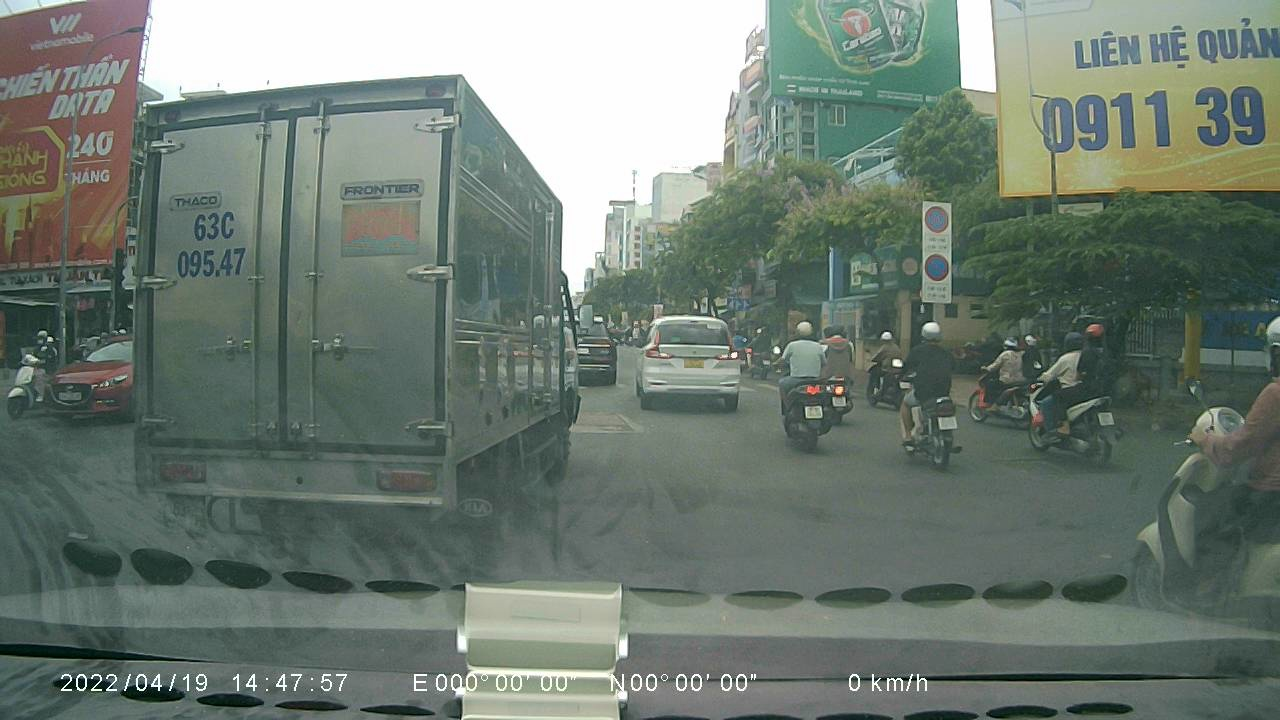Bien khac: (921, 201, 954, 232)
Cam do xe: (924, 251, 951, 281)
